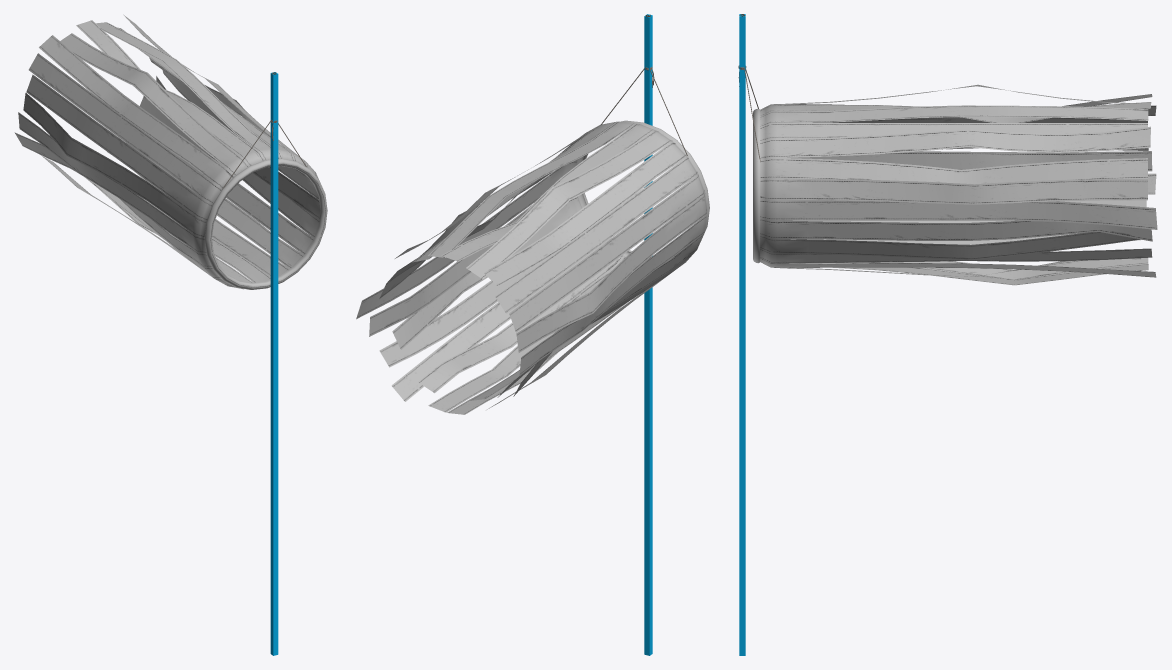
Rendered from JWC_Flag_UmaJirushi_02.fbx.
The picture shows the model from 3 angles, left to right: view 1: azimuth 30°, elevation 25°; view 2: azimuth 150°, elevation 25°; view 3: azimuth 270°, elevation 25°; orthographic projection. The views are drawn at different scales.
Visible parts, largest first — view 1: JWC_Flag_UmaJirushi_02, C_JWC_Flag_UmaJirushi_02; view 2: JWC_Flag_UmaJirushi_02, C_JWC_Flag_UmaJirushi_02; view 3: JWC_Flag_UmaJirushi_02, C_JWC_Flag_UmaJirushi_02.
Boxes of the visible parts, x1,y1,x2,y2 form: JWC_Flag_UmaJirushi_02: [14, 14, 327, 289]; C_JWC_Flag_UmaJirushi_02: [270, 72, 278, 655]; JWC_Flag_UmaJirushi_02: [356, 14, 709, 414]; C_JWC_Flag_UmaJirushi_02: [644, 14, 652, 655]; JWC_Flag_UmaJirushi_02: [738, 14, 1157, 285]; C_JWC_Flag_UmaJirushi_02: [739, 14, 745, 655].
Bounding box in the file's own units: 1.48 × 5.26 × 3.13.
